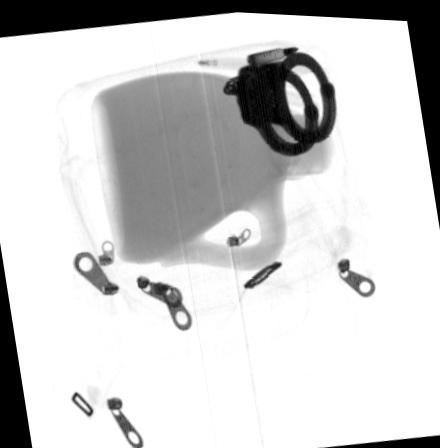Bullet: (247, 40, 299, 64)
HandCuffs: (222, 44, 339, 153)
